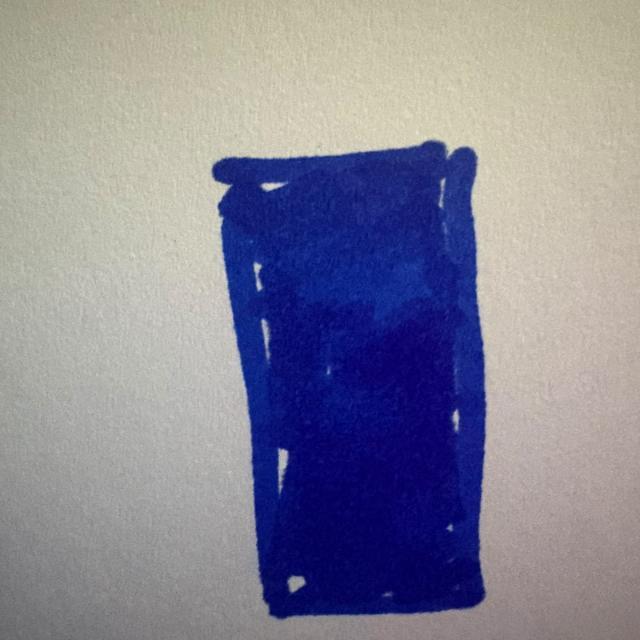Rectangle: (212, 140, 486, 619)
